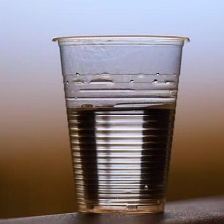glass: (50, 30, 197, 220)
